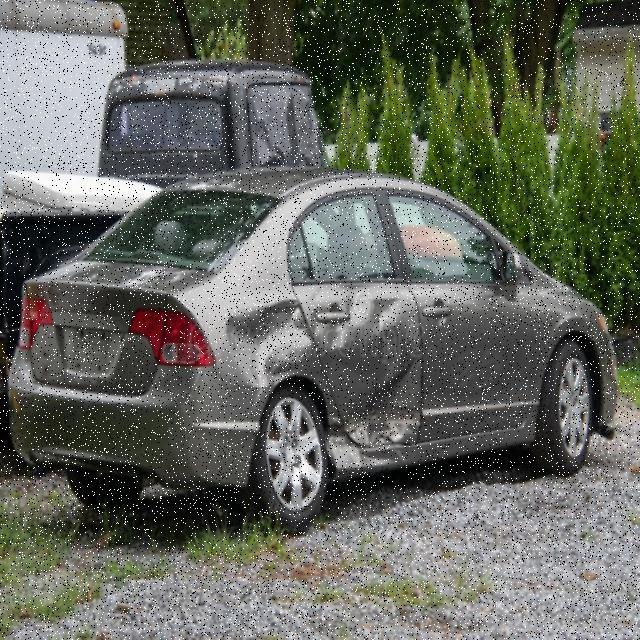doorouter-dent: (306, 283, 422, 453)
quaterpanel-dent: (202, 284, 305, 432)
